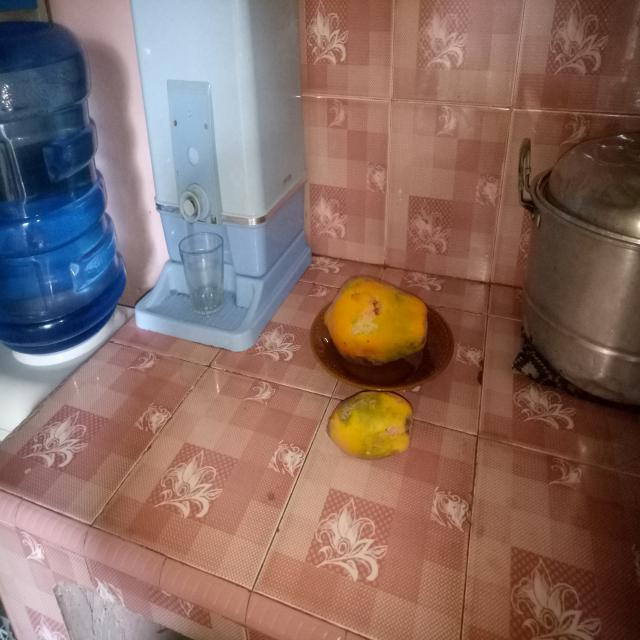Pepaya rippen: (324, 286, 436, 359), (321, 383, 416, 460)
